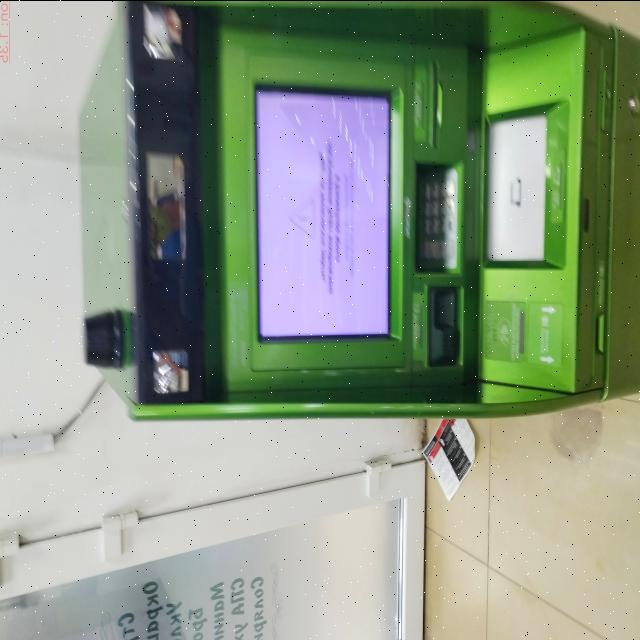bank: (69, 0, 640, 423)
